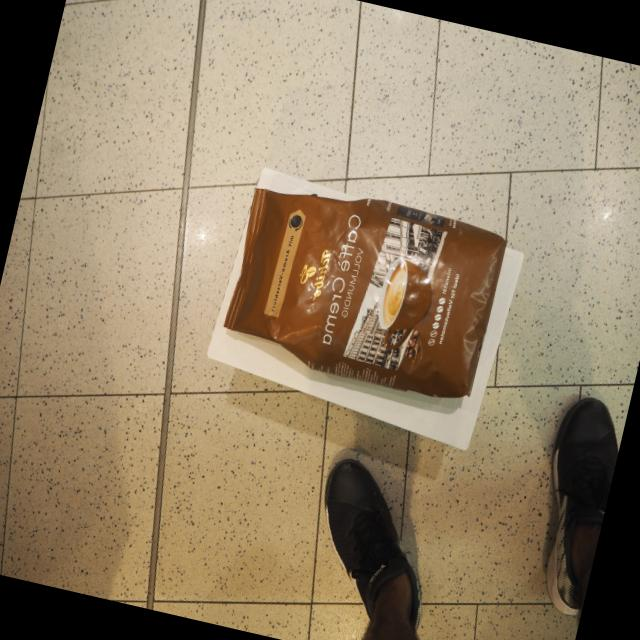CC Vollmundig 36 Pads: (212, 165, 512, 412)
